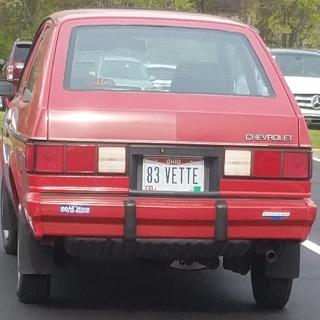license: (143, 158, 205, 193)
